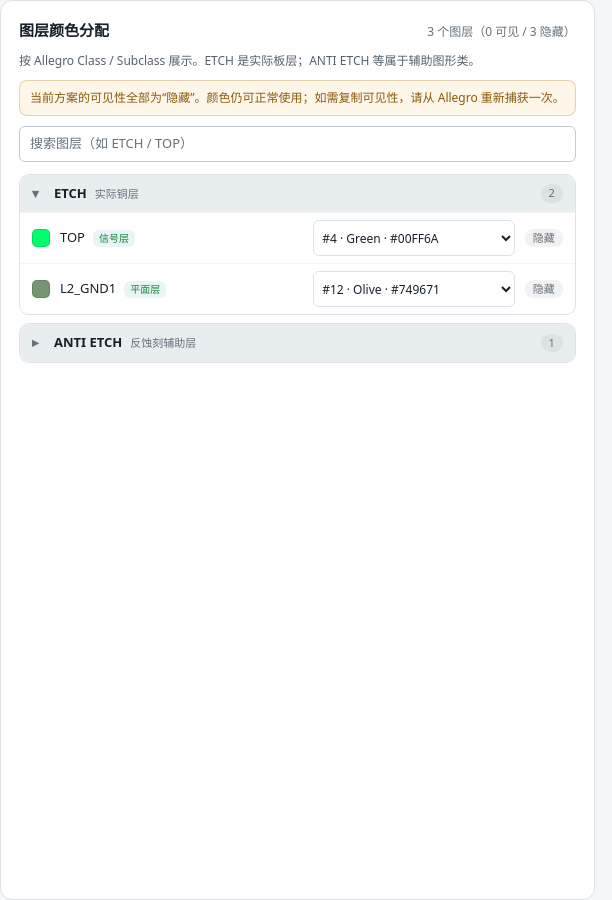
ColorLayerList › explains palette indexes and expands a collapsed auxiliary class on click
This screenshot has width=612, height=900.
Check: the message shows "重新捕获", box [30,88,565,106]
Check: the dropdown named "ETCH/TOP 颜色" shows "#4 · Green · #00FF6A", box [313,220,515,256]
Step 1. Click the button "▸ ANTI ETCH 反蚀刻辅助层 1" → click(88, 342), box [20,324,575,362]
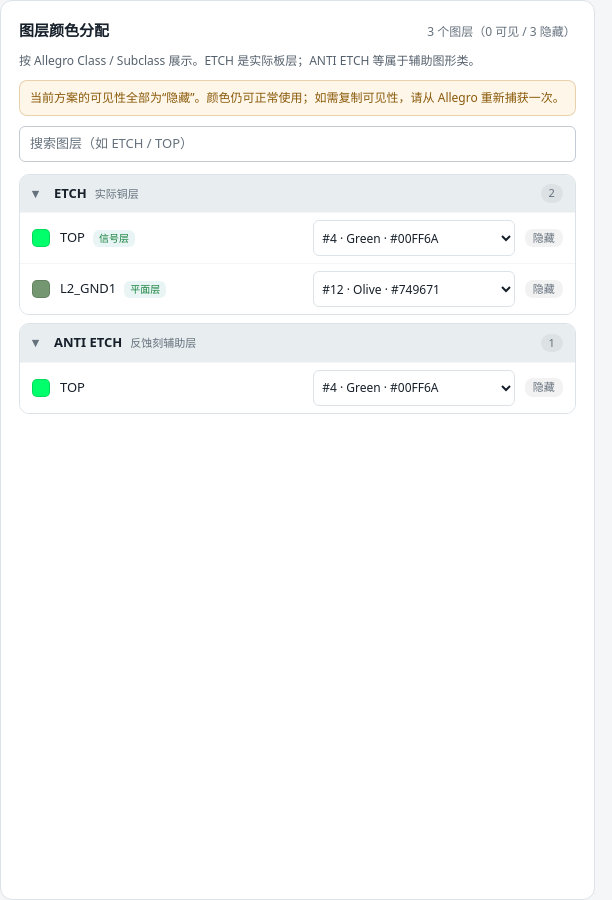
Check: the dropdown named "ANTI ETCH/TOP 颜色" shows "#4 · Green · #00FF6A", box [313,370,515,406]
